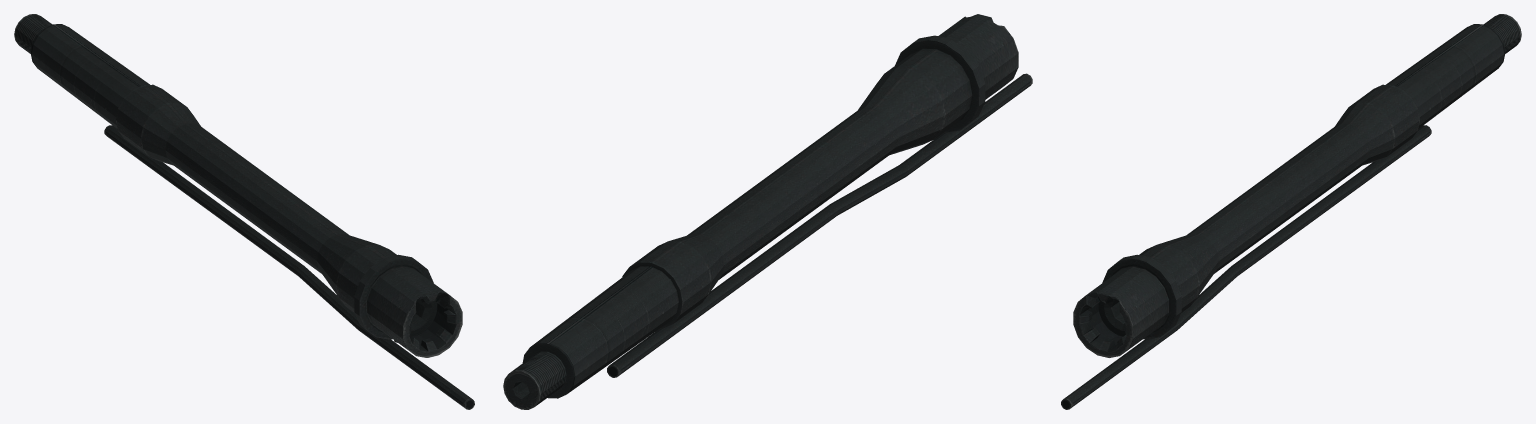
3 renders of one model, left to right at view 1: azimuth 30°, elevation 25°; view 2: azimuth 150°, elevation 25°; view 3: azimuth 330°, elevation 25°, orthographic. The views are drawn at different scales.
Parts seen in each view (by area): view 1: TW_55d35ee94bdc2d61338b4568_PZ_Import; view 2: TW_55d35ee94bdc2d61338b4568_PZ_Import; view 3: TW_55d35ee94bdc2d61338b4568_PZ_Import.
Boxes of the visible parts, x1,y1,x2,y2 form: TW_55d35ee94bdc2d61338b4568_PZ_Import: (14,14,474,409); TW_55d35ee94bdc2d61338b4568_PZ_Import: (503,14,1032,409); TW_55d35ee94bdc2d61338b4568_PZ_Import: (1061,14,1521,409).
Size of the model in its own units: 0.0171 by 0.1756 by 0.0213.
Materials: 1 (1 with a texture image).
